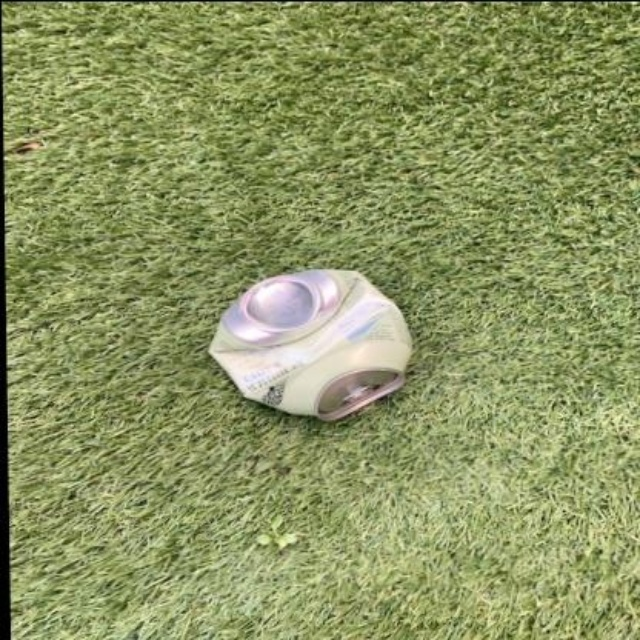trash: (209, 269, 409, 418)
